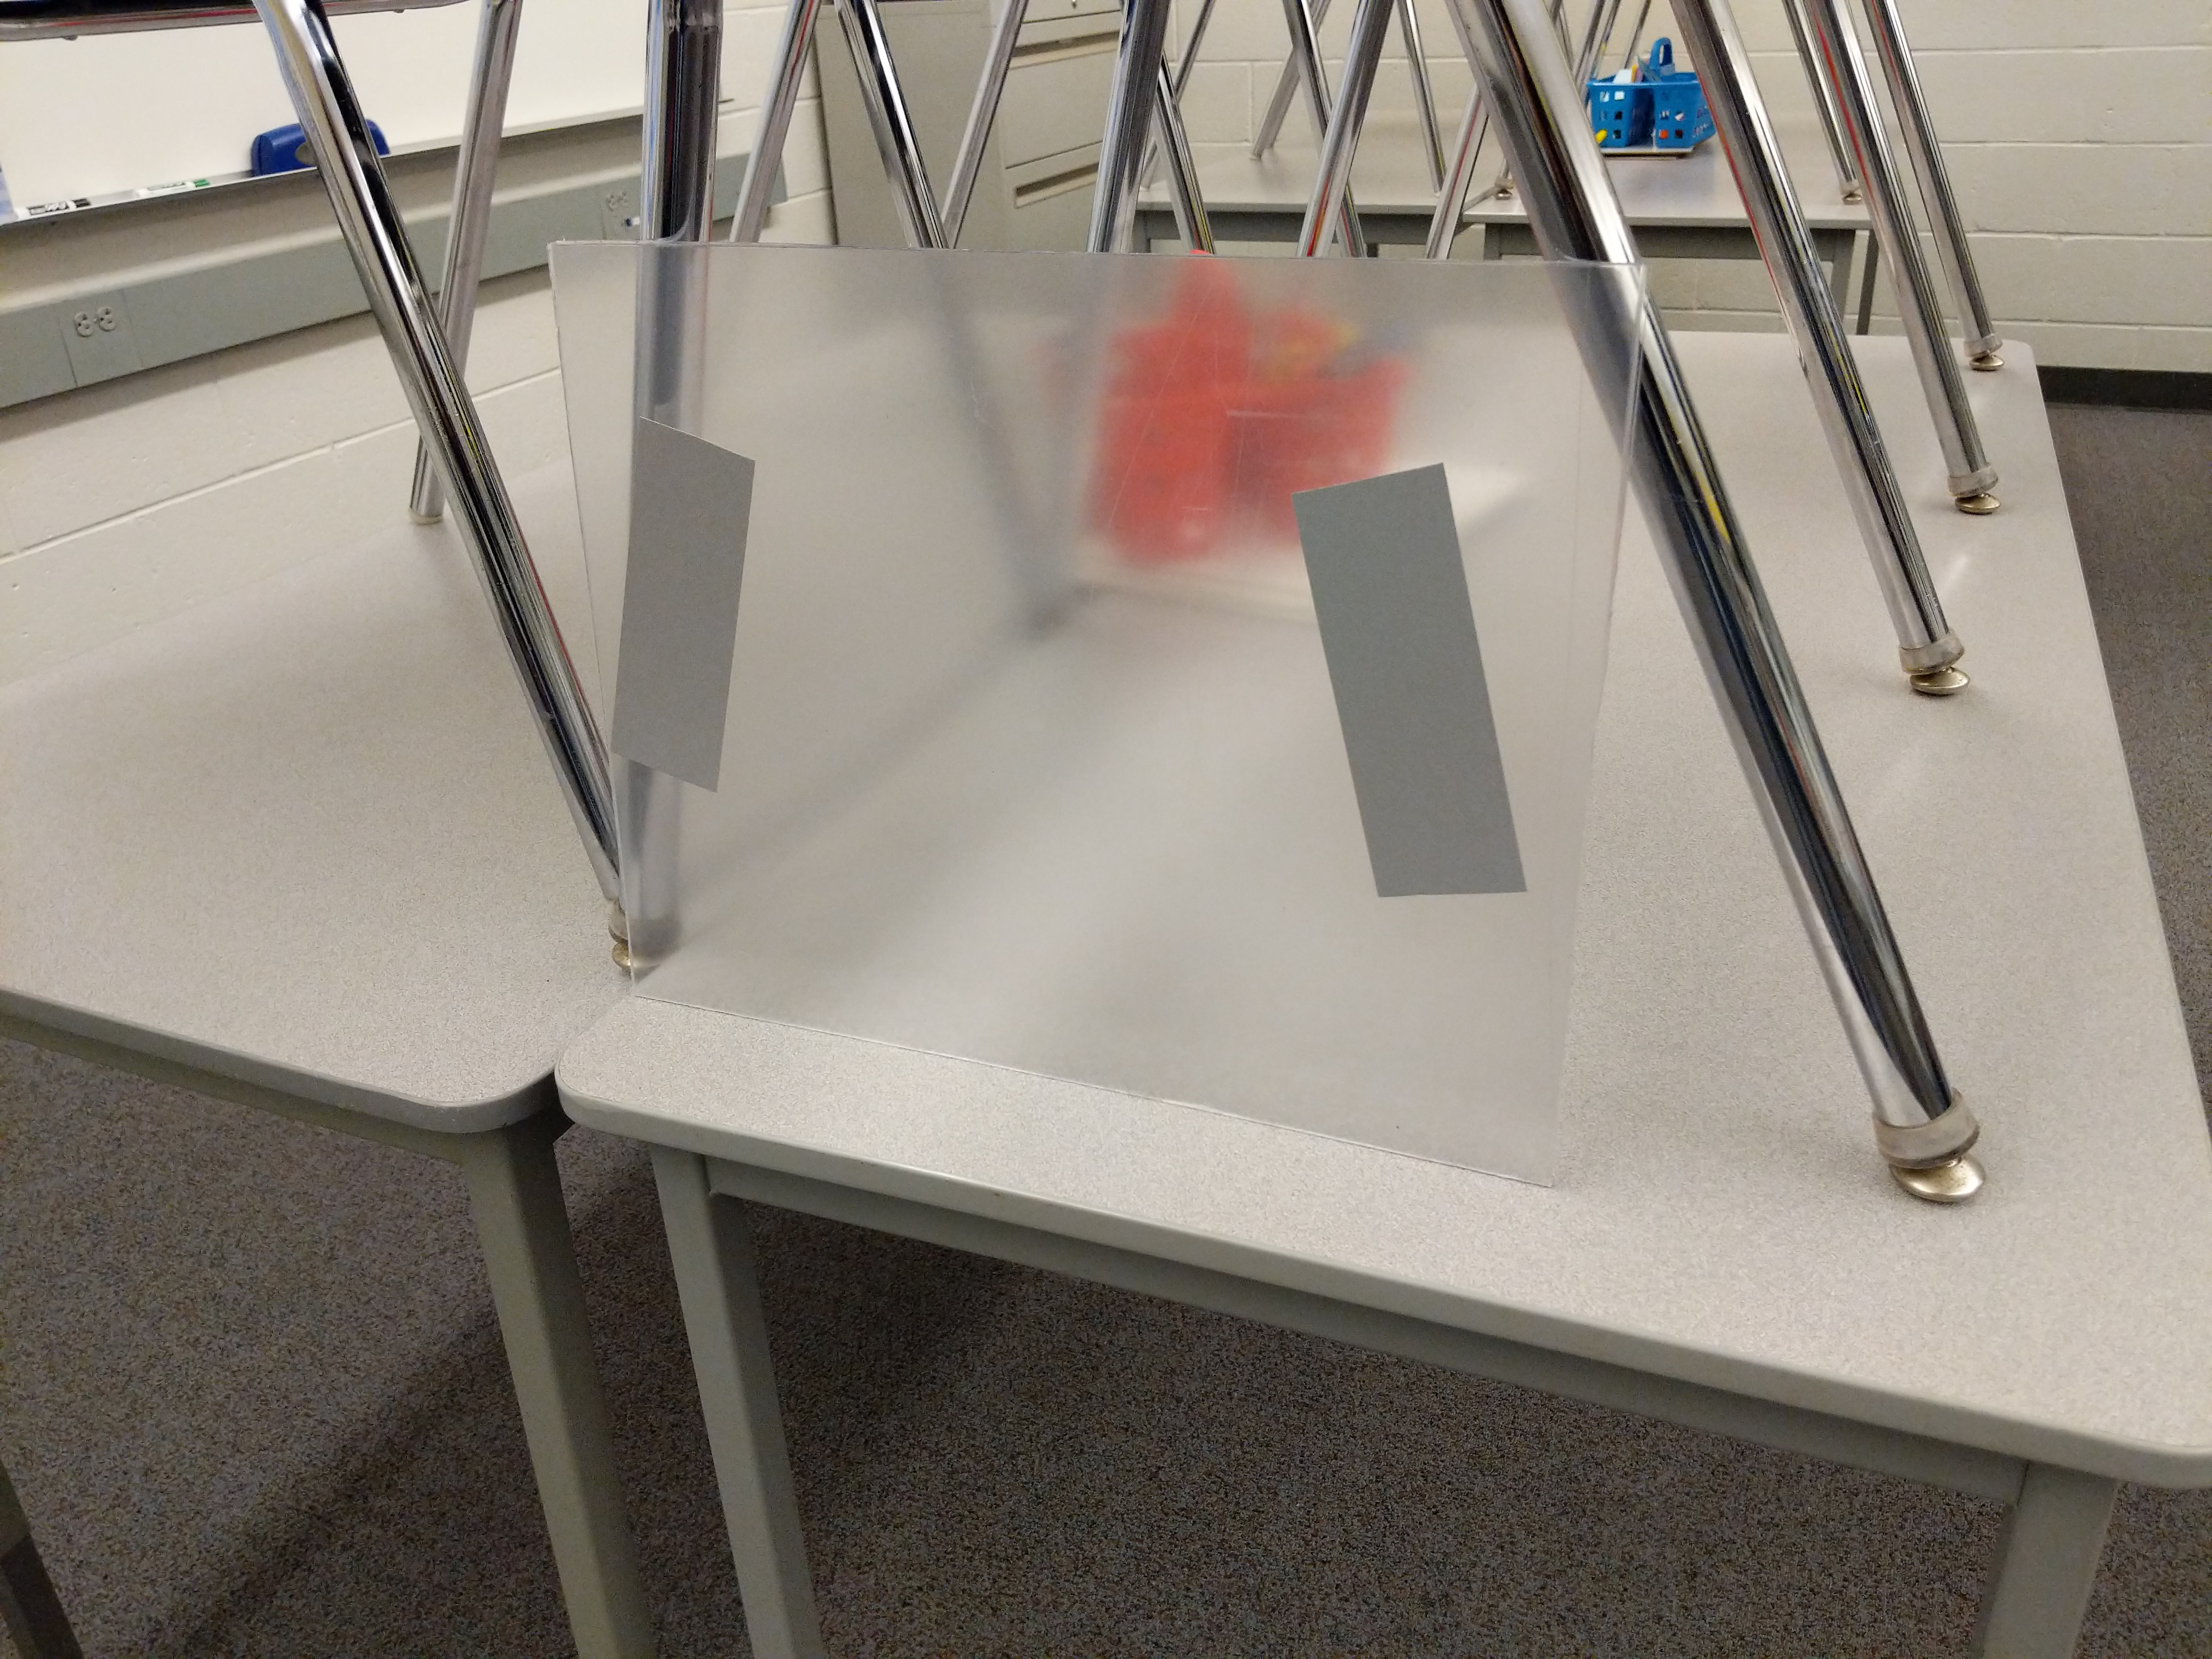vision_target: (601, 404, 1547, 908)
